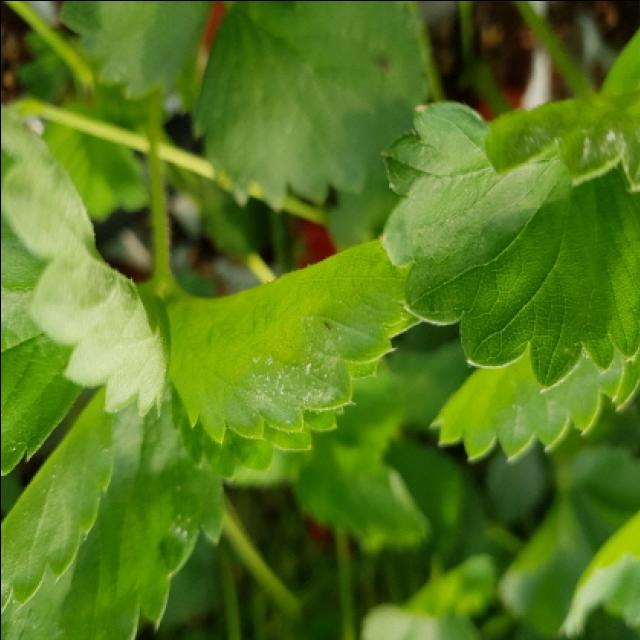Powdery Mildew Leaf: (377, 89, 638, 395), (162, 238, 428, 482), (0, 382, 225, 640)
